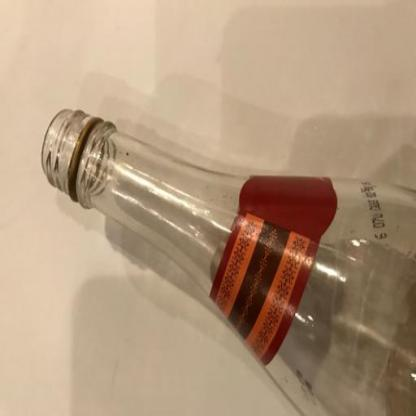trash: (39, 104, 415, 416)
